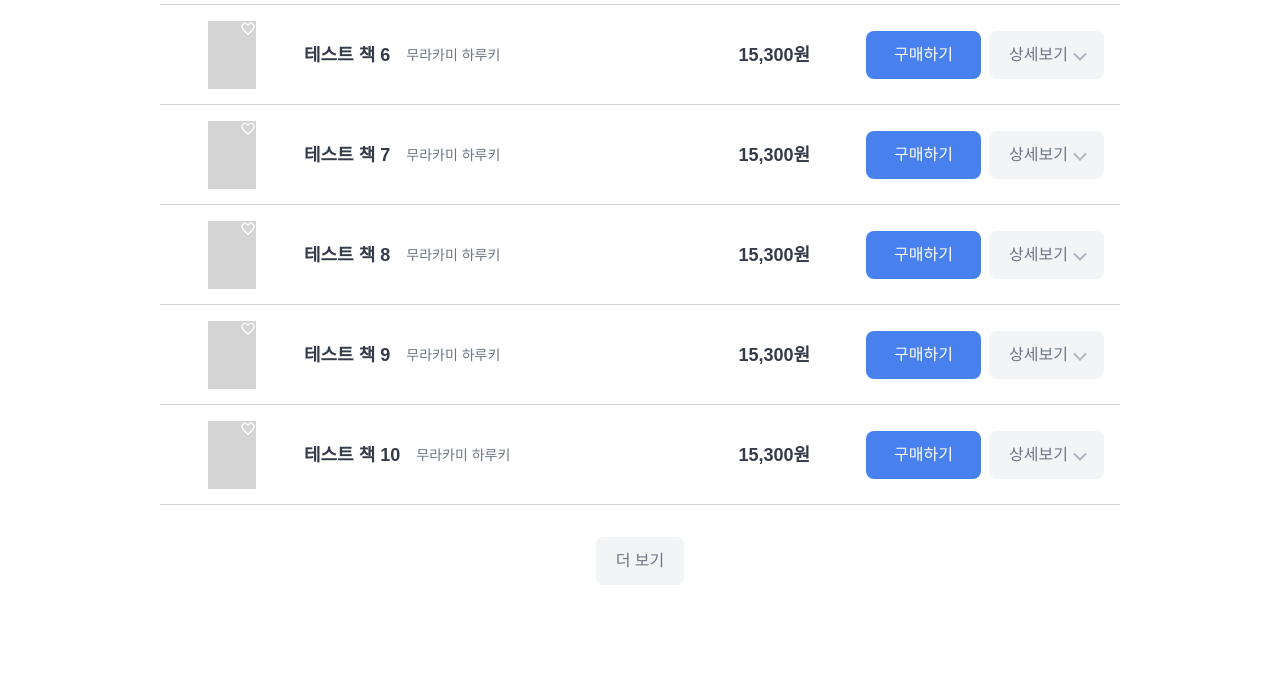
Test: 도서 검색 결과 › 다음 목록을 불러오는 동안에는 불러오는 중임을 알린다
(page scrolled)
Click the button "더 보기" at [640, 561], box left=596, top=537, right=684, bottom=585
(page scrolled)
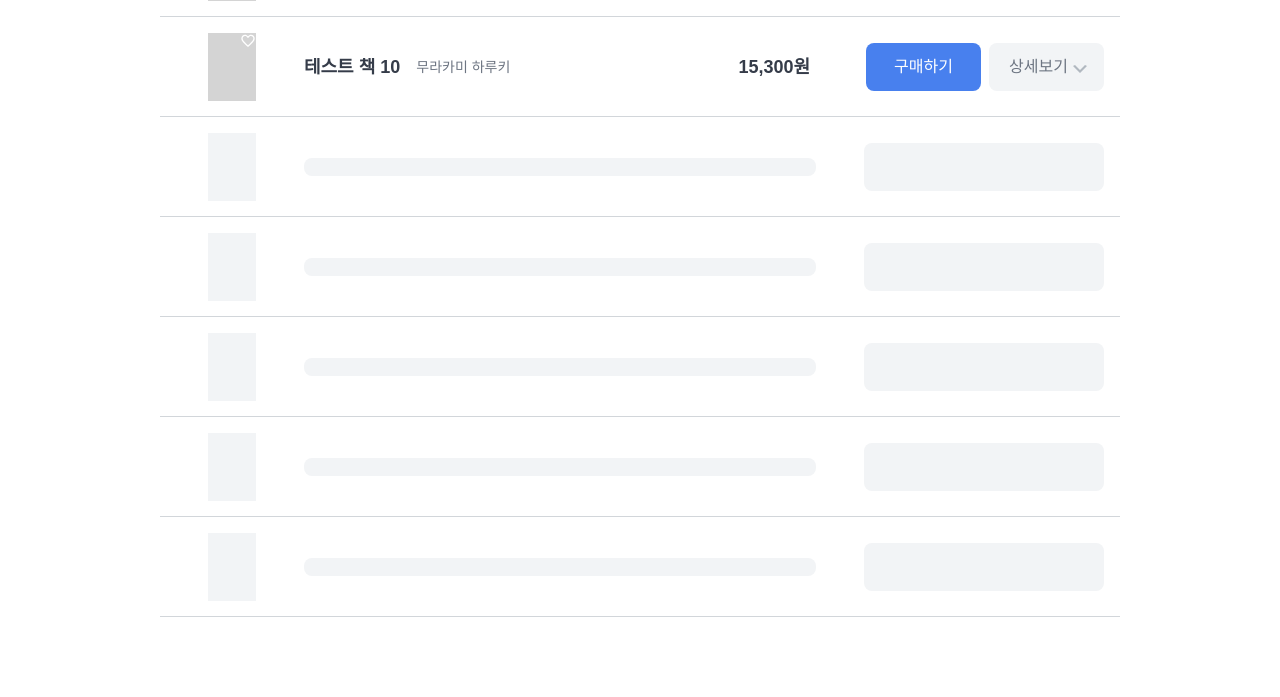
Check: the message named "다음 목록 불러오는 중" is shown, box left=160, top=117, right=1120, bottom=617
